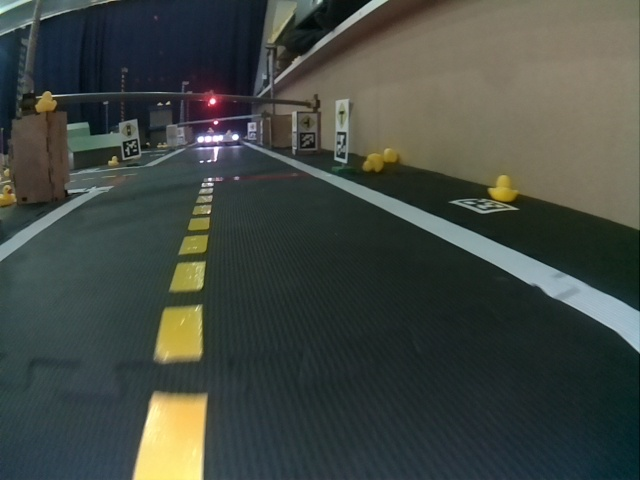Duckie: (489, 176, 517, 201), (35, 92, 56, 113), (363, 153, 383, 171), (0, 185, 14, 206), (383, 148, 398, 163), (108, 157, 118, 166)
Intersection sign: (298, 114, 317, 131), (336, 103, 348, 127)
QR code: (450, 199, 519, 214), (123, 140, 139, 158), (335, 132, 346, 158), (298, 136, 316, 148), (248, 131, 257, 140)
Signal sign: (121, 123, 137, 137)
Traffic light: (208, 97, 217, 107)
